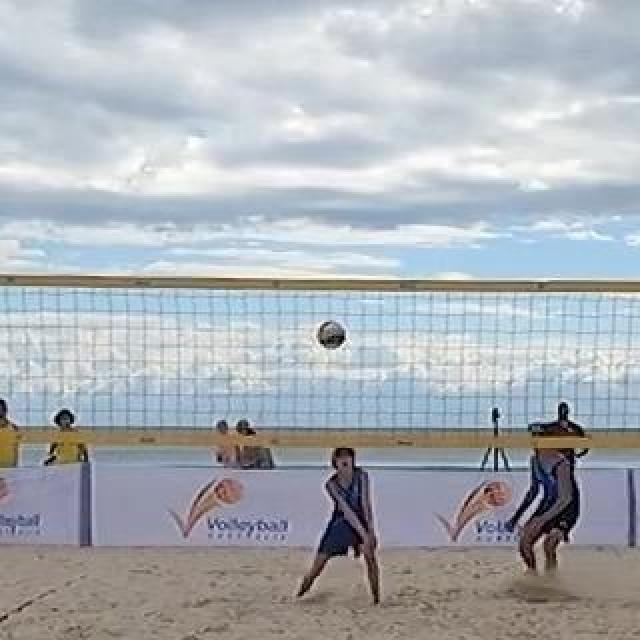volleyball: (315, 322, 343, 350)
